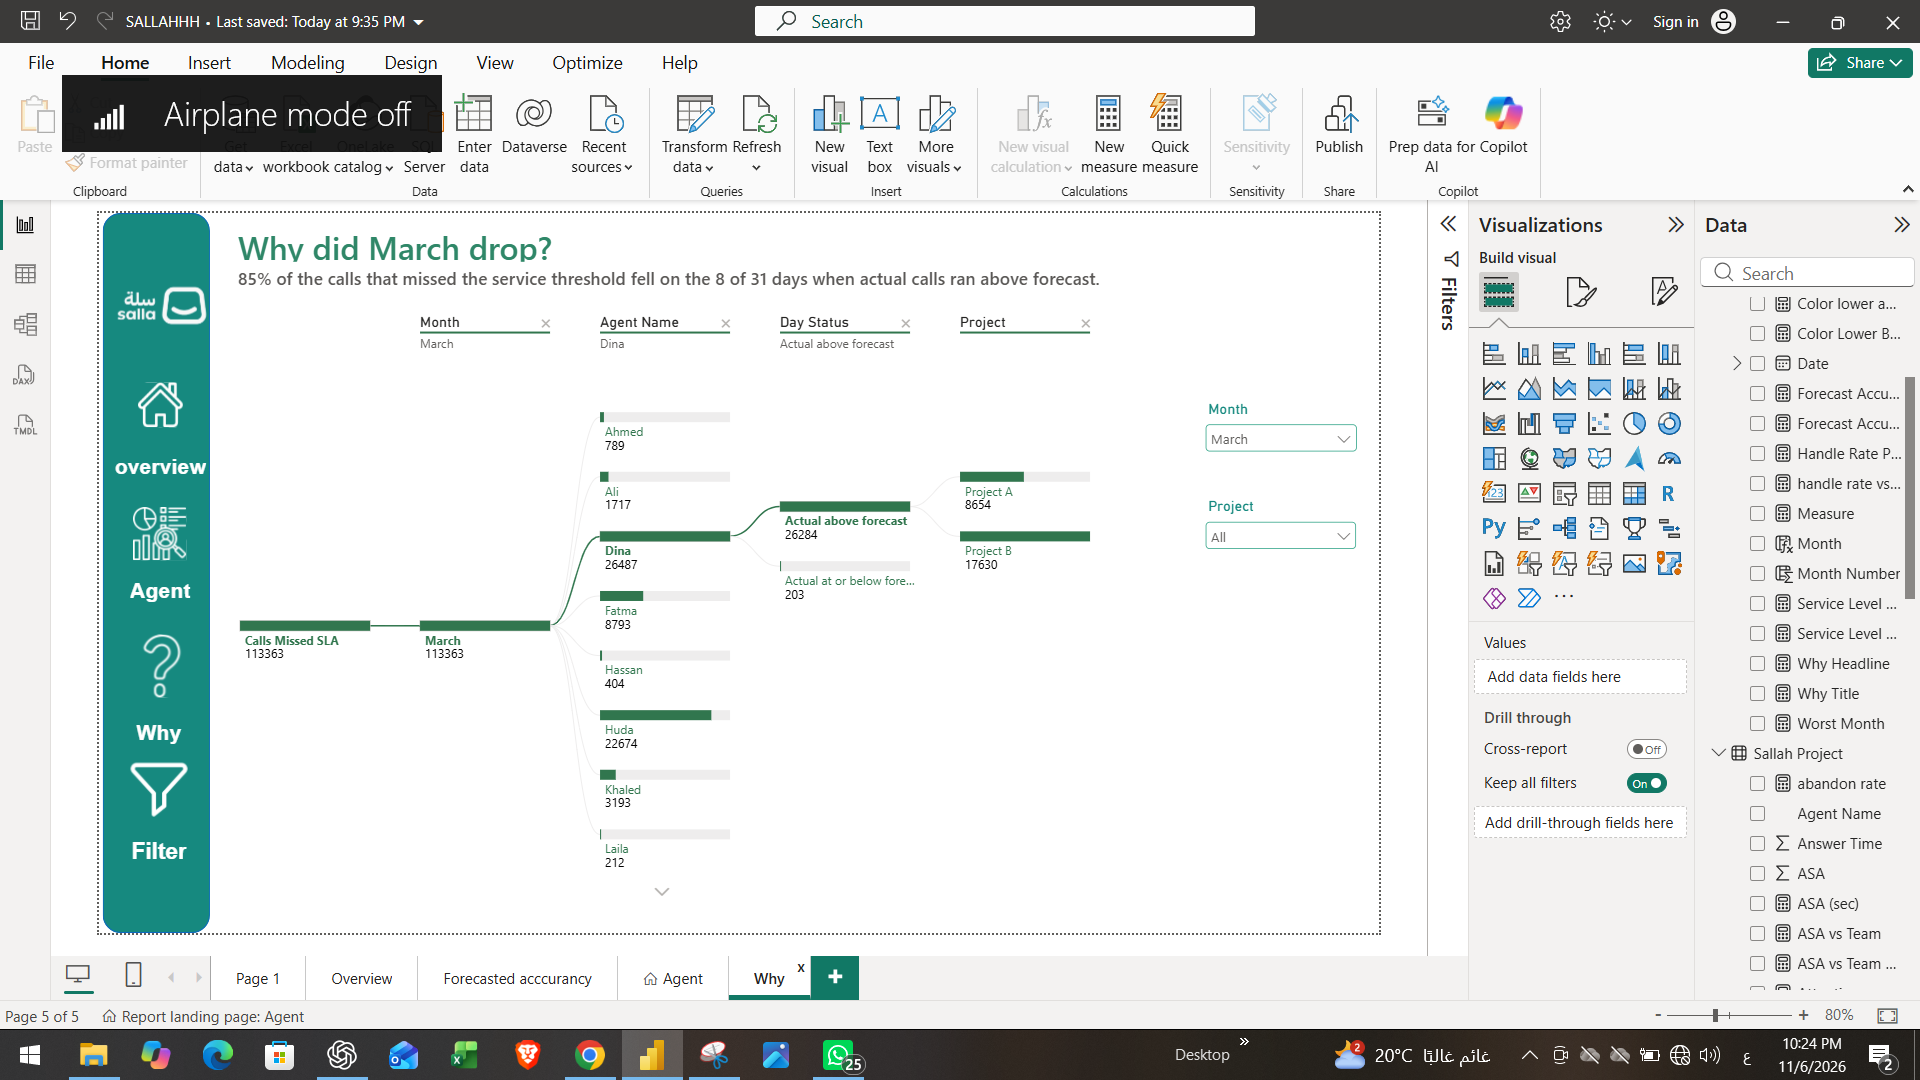

Layout of this report page (visuals, bound fields, positions):
{"tool":"powerbi","page":{"name":"Why","canvas":[1280,720],"ordinal":4},"visuals":[{"type":"textbox","box":[111.2,7.5,628.8,86.2],"z":0,"group":"g1"},{"type":"slicer","fields":{"Values":["Calendar.Month"]},"box":[1096.2,182.5,171.3,71.2],"z":1000},{"type":"shape","box":[4.3,0,107.1,720],"z":2000},{"type":"slicer","fields":{"Values":["Sallah Project.Project"]},"box":[1096.2,280,171.1,71],"z":3000},{"type":"group","id":"g1","title":"Group 2","box":[111.2,7.5,628.8,86.2],"z":9000},{"type":"actionButton","box":[34.8,146.1,52.9,91.8],"z":11000},{"type":"actionButton","box":[27.8,417.4,90.4,71],"z":12000},{"type":"actionButton","box":[22.3,537,96,75.1],"z":13000},{"type":"actionButton","box":[30.6,289.4,65.4,61.2],"z":14000},{"type":"actionButton","box":[11.1,229.6,100.2,48.7],"z":15000},{"type":"actionButton","box":[11.1,353.4,100.2,48.7],"z":16000},{"type":"actionButton","box":[10,495.7,100,48.6],"z":17000},{"type":"actionButton","box":[0.3,22.3,132.7,92.9],"z":19000},{"type":"actionButton","box":[9.7,617.7,100.2,40.3],"z":20000},{"type":"decompositionTreeVisual","fields":{"Analyze":["Sallah Project.Calls Missed SLA"],"ExplainBy":["Calendar.Month","Sallah Project.Agent Name","Sallah Project.Day Status","Sallah Project.Project"]},"box":[111.2,83.8,973.8,636.2],"z":21000},{"type":"cardVisual","fields":{"Data":["Calendar.Why Title"]},"box":[110,0,590,66.2],"z":23000},{"type":"cardVisual","fields":{"Data":["Calendar.Why Headline"]},"box":[110,33.8,1170,60],"z":24000}]}

Visuals, with their boxes on the page's 1280x720 design canvas (x1, y1, x2, y2). These are canvas units, not pixel positions in the 1920x1080 screenshot, which may show the page scaled, cropped or inside an application window:
textbox: BBox(111, 8, 740, 94)
slicer - Calendar.Month: BBox(1096, 182, 1268, 254)
shape: BBox(4, 0, 111, 720)
slicer - Sallah Project.Project: BBox(1096, 280, 1267, 351)
"Group 2" group: BBox(111, 8, 740, 94)
actionButton: BBox(35, 146, 88, 238)
actionButton: BBox(28, 417, 118, 488)
actionButton: BBox(22, 537, 118, 612)
actionButton: BBox(31, 289, 96, 351)
actionButton: BBox(11, 230, 111, 278)
actionButton: BBox(11, 353, 111, 402)
actionButton: BBox(10, 496, 110, 544)
actionButton: BBox(0, 22, 133, 115)
actionButton: BBox(10, 618, 110, 658)
decompositionTreeVisual - Sallah Project.Calls Missed SLA x Calendar.Month: BBox(111, 84, 1085, 720)
cardVisual - Calendar.Why Title: BBox(110, 0, 700, 66)
cardVisual - Calendar.Why Headline: BBox(110, 34, 1280, 94)
